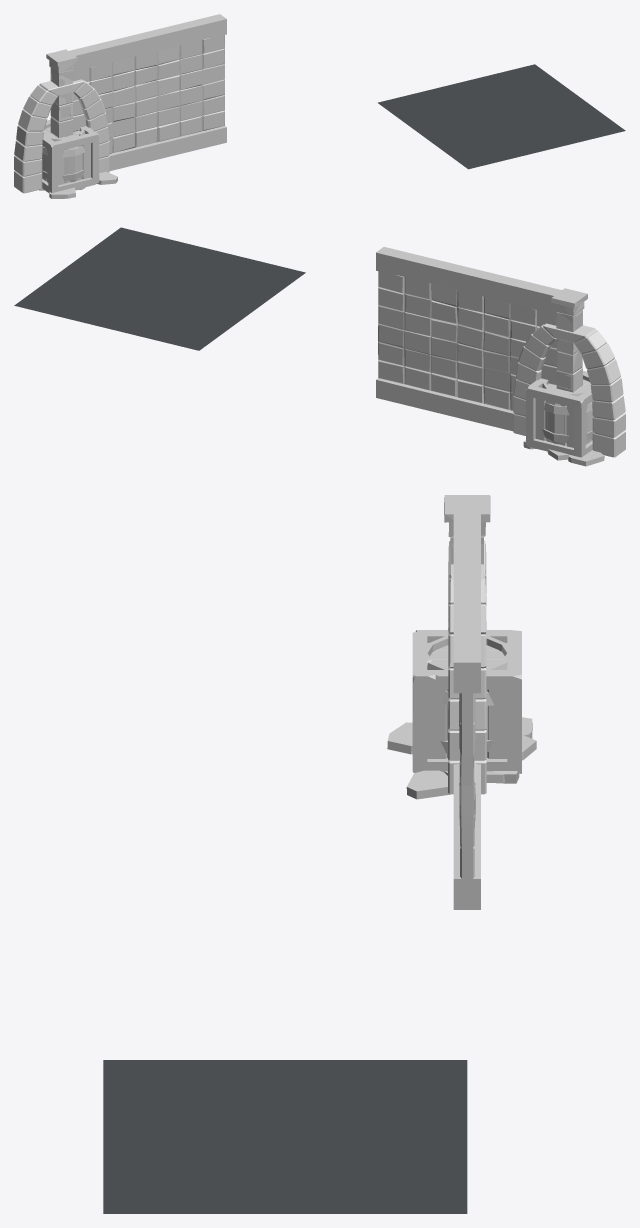
The model's file is StageMap.gltf.
3 views of the same model, one above another, from view 1: azimuth 30°, elevation 25°; view 2: azimuth 150°, elevation 25°; view 3: azimuth 270°, elevation 25° (orthographic). The views are drawn at different scales.
Visible parts, largest first — view 1: Floor.027, Wall Mirror, Wall, Doorway, Crate, Pillar, Barrel, Pillar with Hole; view 2: Wall, Floor.027, Doorway, Crate, Pillar with Hole, Barrel, Pillar, Wall Mirror, Broken Floor Tiles A; view 3: Floor.027, Crate, Wall, Doorway, Wall Mirror, Barrel, Broken Floor Tiles A, Pillar.
Part boxes in pixels (x1=…): Floor.027: x1=377, y1=64, x2=625, y2=169; Wall Mirror: x1=72, y1=30, x2=226, y2=170; Wall: x1=69, y1=14, x2=226, y2=155; Doorway: x1=14, y1=79, x2=109, y2=193; Crate: x1=42, y1=119, x2=99, y2=192; Pillar: x1=46, y1=49, x2=77, y2=137; Barrel: x1=41, y1=122, x2=85, y2=182; Pillar with Hole: x1=46, y1=54, x2=74, y2=137; Wall: x1=376, y1=247, x2=561, y2=431; Floor.027: x1=14, y1=227, x2=305, y2=350; Doorway: x1=513, y1=323, x2=625, y2=457; Crate: x1=526, y1=371, x2=592, y2=457; Pillar with Hole: x1=551, y1=298, x2=584, y2=392; Barrel: x1=542, y1=373, x2=593, y2=444; Pillar: x1=552, y1=288, x2=587, y2=389; Wall Mirror: x1=380, y1=247, x2=559, y2=292; Broken Floor Tiles A: x1=568, y1=450, x2=604, y2=466; Floor.027: x1=103, y1=1060, x2=467, y2=1213; Crate: x1=412, y1=630, x2=521, y2=774; Wall: x1=453, y1=514, x2=480, y2=909; Doorway: x1=448, y1=540, x2=486, y2=794; Wall Mirror: x1=453, y1=514, x2=467, y2=909; Barrel: x1=422, y1=636, x2=512, y2=753; Broken Floor Tiles A: x1=406, y1=717, x2=532, y2=799; Pillar: x1=444, y1=495, x2=489, y2=564.
Bounding box in the file's own units: 13.1 × 3.07 × 4.76.
Materials: 3 (1 with a texture image).
